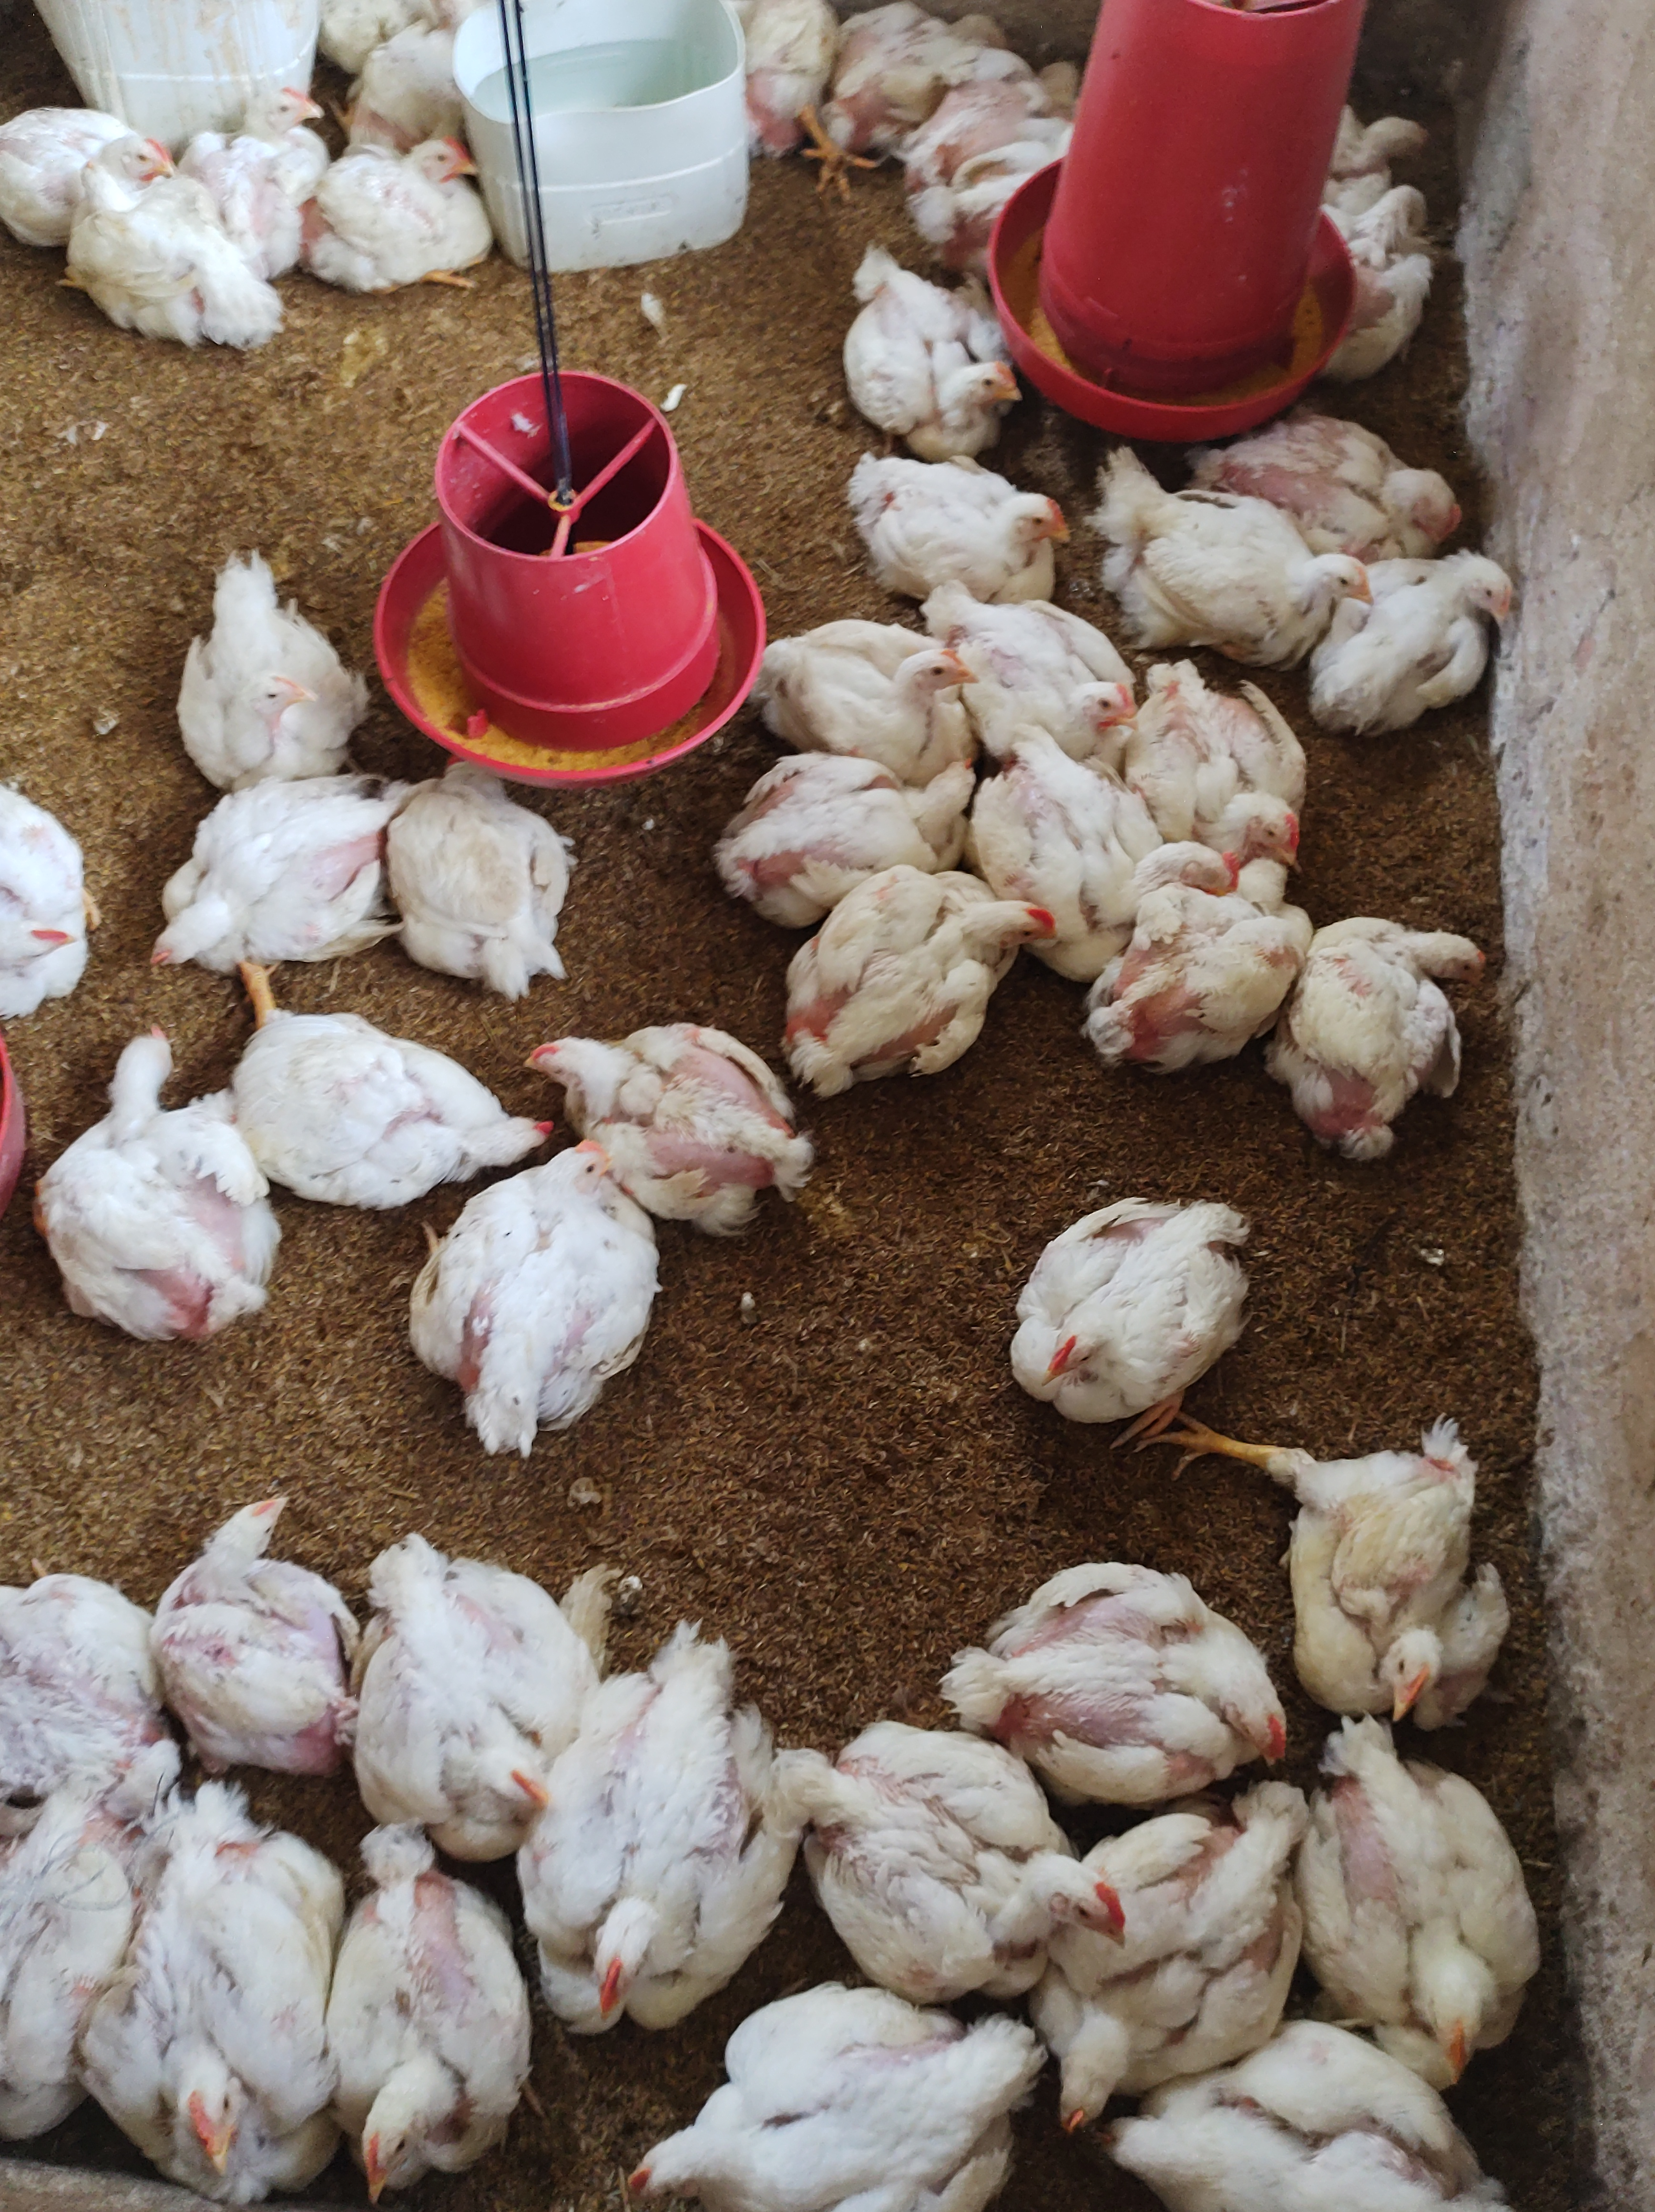Pollos: (808, 1709, 1130, 1991), (1323, 1722, 1565, 2071), (1264, 1421, 1551, 1713), (553, 1666, 784, 2028), (136, 1829, 346, 2203), (38, 1031, 302, 1325), (1071, 1793, 1292, 2122), (617, 2007, 986, 2203), (433, 1148, 668, 1440), (968, 1565, 1285, 1781), (219, 1007, 542, 1209), (1109, 2062, 1559, 2207), (532, 1016, 824, 1236), (348, 1880, 532, 2205), (1015, 1179, 1245, 1440), (353, 1542, 560, 1831), (139, 751, 396, 983), (782, 880, 1066, 1087), (1299, 909, 1500, 1162), (174, 1487, 346, 1770), (163, 544, 363, 779), (384, 743, 577, 984), (0, 1789, 130, 2141), (1100, 849, 1304, 1063), (50, 129, 240, 351), (1100, 499, 1373, 647), (840, 240, 1026, 442), (918, 33, 1114, 223), (831, 430, 1064, 583), (744, 614, 968, 772), (715, 739, 977, 871), (2, 1542, 160, 1762), (1219, 410, 1479, 536), (961, 583, 1140, 763), (1132, 687, 1330, 836), (1377, 536, 1535, 703), (336, 127, 482, 299), (0, 776, 103, 1012), (209, 78, 336, 257), (728, 0, 838, 190), (1326, 190, 1445, 362), (838, 2, 930, 130), (1109, 807, 1238, 897), (1321, 104, 1466, 172)
